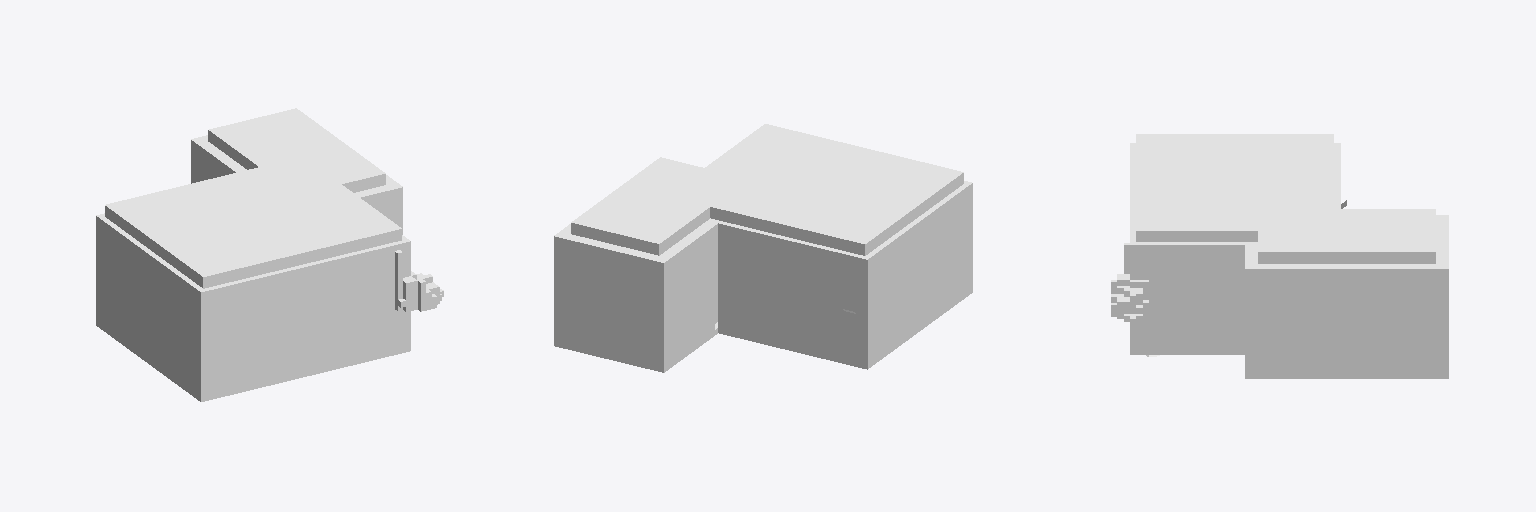
The model's file is map.obj.
3 views of the same model, side by side, from view 1: azimuth 30°, elevation 25°; view 2: azimuth 150°, elevation 25°; view 3: azimuth 270°, elevation 25° (orthographic).
Visible parts, largest first — view 1: crab_game_tag_minecraft_plains_pixel; view 2: crab_game_tag_minecraft_plains_pixel; view 3: crab_game_tag_minecraft_plains_pixel.
Part boxes in pixels (x1,y1,x2,y2): crab_game_tag_minecraft_plains_pixel: (96,108,443,401); crab_game_tag_minecraft_plains_pixel: (554,124,972,372); crab_game_tag_minecraft_plains_pixel: (1111,134,1448,378).
Bounding box in the file's own units: 129 × 58.59 × 146.